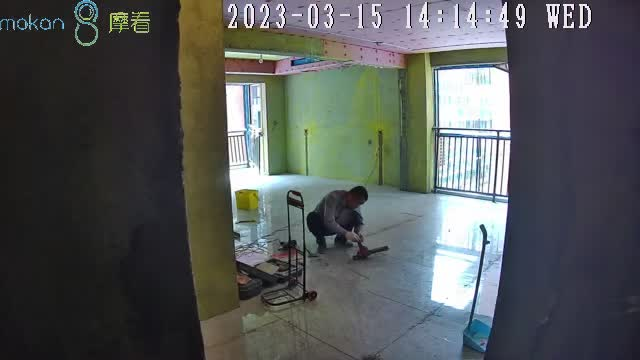people: (306, 185, 368, 252)
window: (433, 67, 510, 201), (226, 84, 259, 166)
